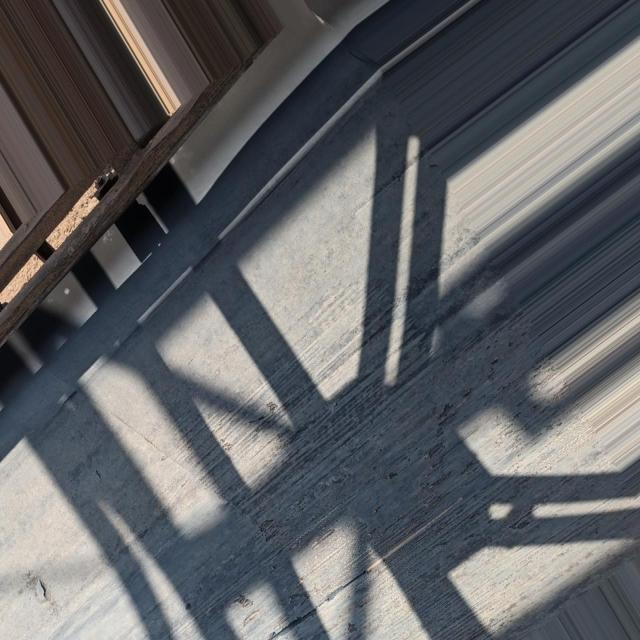Impact Damage: (235, 605, 265, 628)
Tear: (262, 513, 449, 640), (24, 554, 52, 611), (91, 464, 102, 484)
